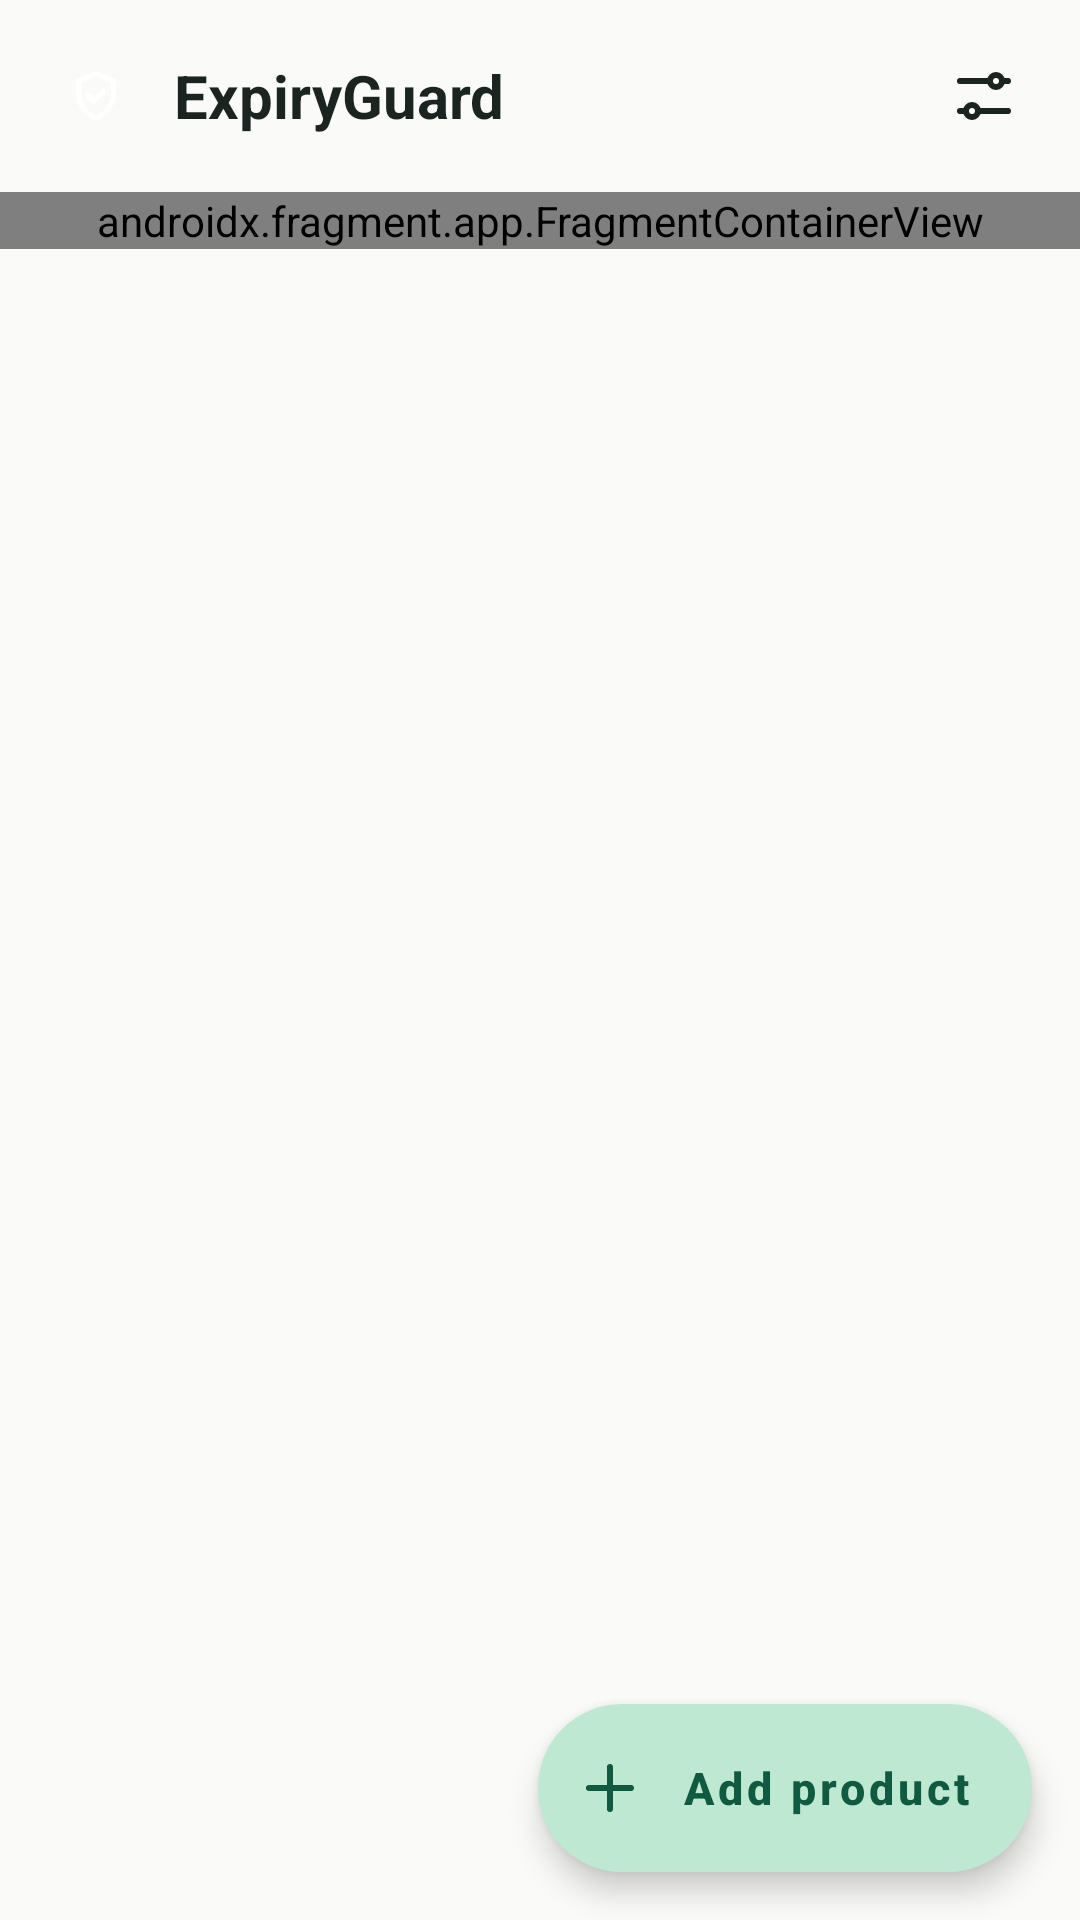

Named icons in this screenshot (1080 x 1920) and their bounding boxes, region(x1, y1, x2, y2):
Settings: region(957, 72, 1011, 120)
